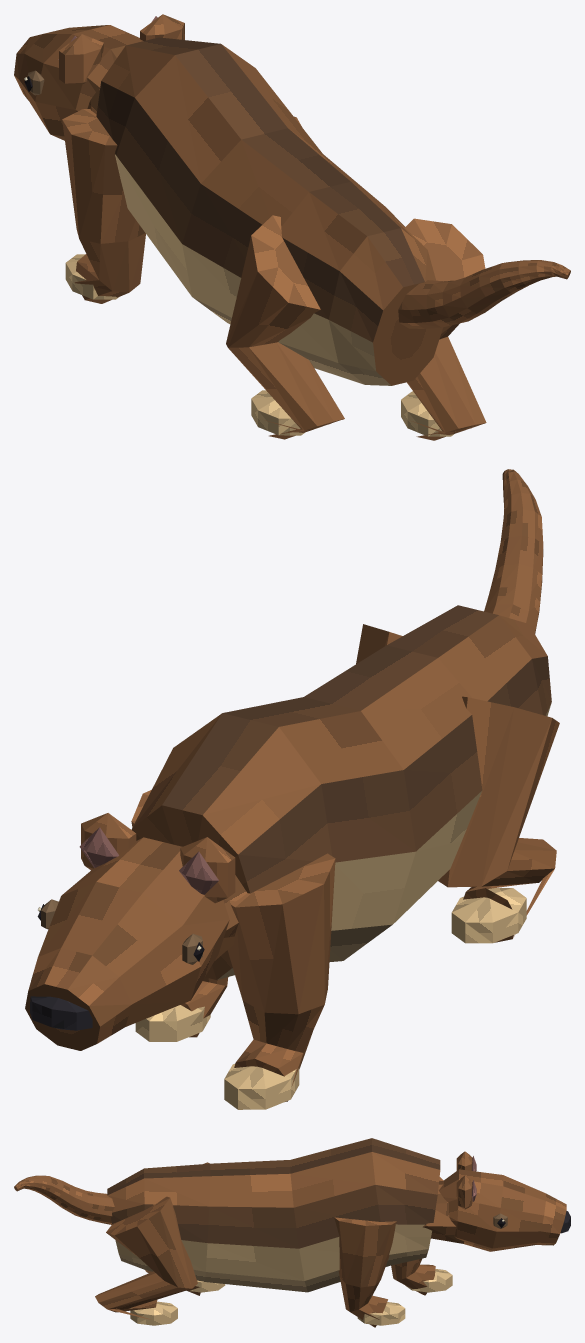
The model's file is mon_chipmunk.glb.
3 renders of one model, top to bottom at view 1: azimuth 30°, elevation 25°; view 2: azimuth 150°, elevation 25°; view 3: azimuth 270°, elevation 25°, orthographic. The views are drawn at different scales.
Parts seen in each view (by area): view 1: closed_body; view 2: closed_body; view 3: closed_body.
Boxes of the visible parts, x1=… form: closed_body: x1=14, y1=14, x2=570, y2=440; closed_body: x1=25, y1=469, x2=559, y2=1109; closed_body: x1=14, y1=1138, x2=570, y2=1327.
Bounding box in the file's own units: 0.0514 × 0.0718 × 0.217.
1 material, 1 textured.
